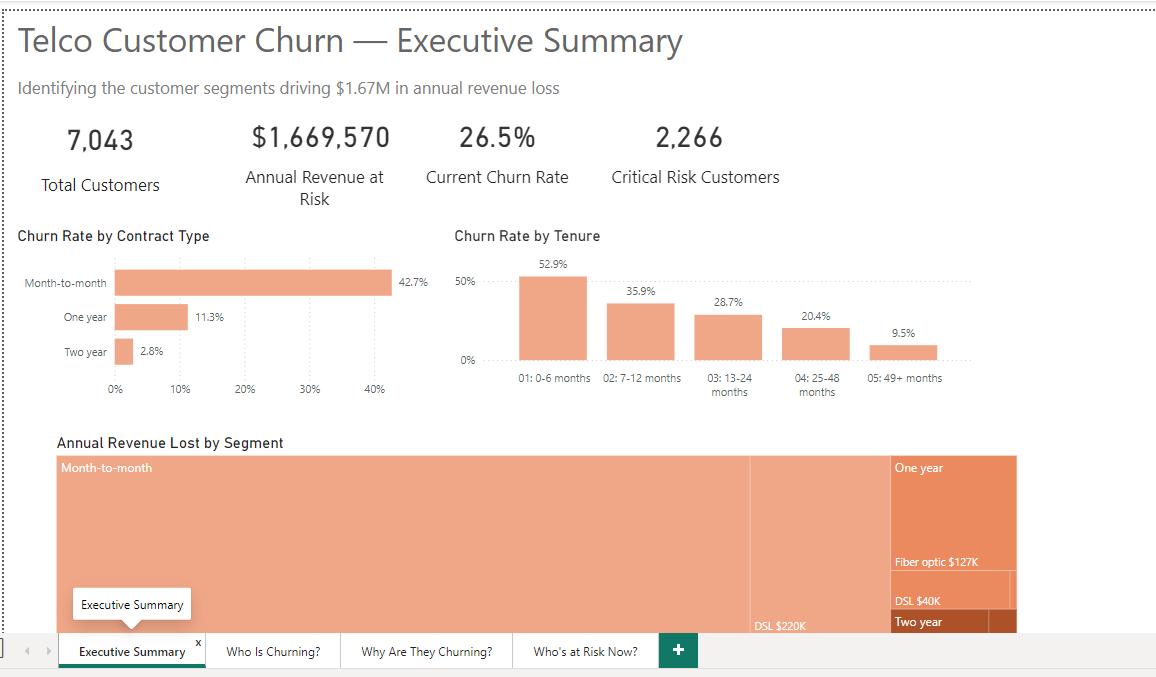

This screenshot's page, from the dashboard's own definition file:
{"tool":"powerbi","page":{"name":"Executive Summary","canvas":[1280,720],"ordinal":0},"visuals":[{"type":"textbox","box":[10,0,1257,67],"z":0},{"type":"textbox","box":[10,67,1257,46],"z":1000},{"type":"advanceCardE03760C5AB684758B56AA29F9E6C257B","fields":{"mainMeasure":["customer_360.Annual Revenue Lost"]},"box":[226,113,253,53],"z":2000},{"type":"textbox","box":[259,166,172,62],"z":3000},{"type":"textbox","box":[10,174,194,47],"z":4000},{"type":"advanceCardE03760C5AB684758B56AA29F9E6C257B","fields":{"mainMeasure":["customer_360.Churn Rate"]},"box":[457,113,183,53],"z":5000},{"type":"textbox","box":[457,166,183,55],"z":6000},{"type":"textbox","box":[639,166,259,62],"z":7000},{"type":"clusteredBarChart","title":" Churn Rate by Contract Type","fields":{"Category":["customer_360.contract_type"],"Y":["customer_360.Churn Rate"]},"box":[10,240,479,199],"z":8000},{"type":"clusteredColumnChart","title":"Churn Rate by Tenure","fields":{"Category":["customer_360.tenure_bucket"],"Y":["customer_360.Churn Rate"]},"box":[496,240,588,199],"z":9000},{"type":"advanceCardE03760C5AB684758B56AA29F9E6C257B","fields":{"mainMeasure":["customer_360.Total Customers"]},"box":[10,113,194,61],"z":10000},{"type":"advanceCardE03760C5AB684758B56AA29F9E6C257B","fields":{"mainMeasure":["customer_360.Critical Risk Customers"]},"box":[648,113,227,53],"z":11000},{"type":"treemap","title":"Annual Revenue Lost by Segment","fields":{"Group":["customer_360.contract_type"],"Details":["customer_360.internet_service"],"Values":["customer_360.Annual Revenue Lost"]},"box":[53,470,1077,250],"z":12000}]}

Visuals, with their boxes on the page's 1280x720 design canvas (x1, y1, x2, y2). These are canvas units, not pixel positions in the 1156x677 screenshot, which may show the page scaled, cropped or inside an application window:
textbox: 10 0 1267 67
textbox: 10 67 1267 113
advanceCardE03760C5AB684758B56AA29F9E6C257B - customer_360.Annual Revenue Lost: 226 113 479 166
textbox: 259 166 431 228
textbox: 10 174 204 221
advanceCardE03760C5AB684758B56AA29F9E6C257B - customer_360.Churn Rate: 457 113 640 166
textbox: 457 166 640 221
textbox: 639 166 898 228
" Churn Rate by Contract Type" clusteredBarChart: 10 240 489 439
"Churn Rate by Tenure" clusteredColumnChart: 496 240 1084 439
advanceCardE03760C5AB684758B56AA29F9E6C257B - customer_360.Total Customers: 10 113 204 174
advanceCardE03760C5AB684758B56AA29F9E6C257B - customer_360.Critical Risk Customers: 648 113 875 166
"Annual Revenue Lost by Segment" treemap: 53 470 1130 720
